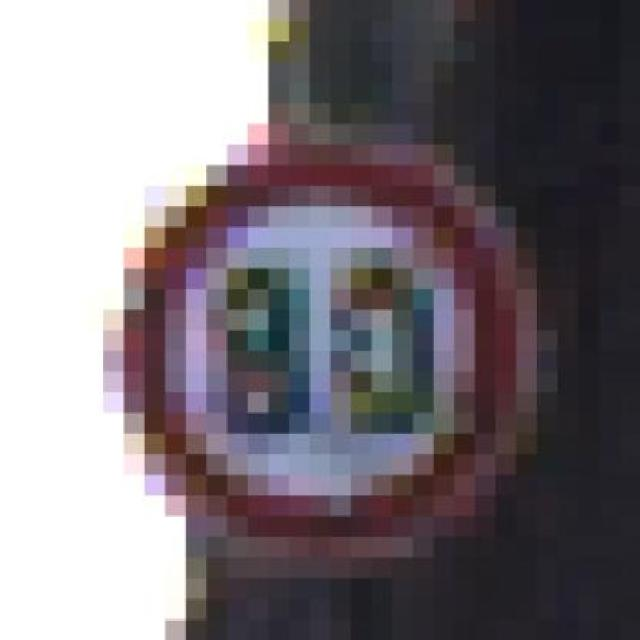forb_speed_over_80: (120, 143, 534, 549)
